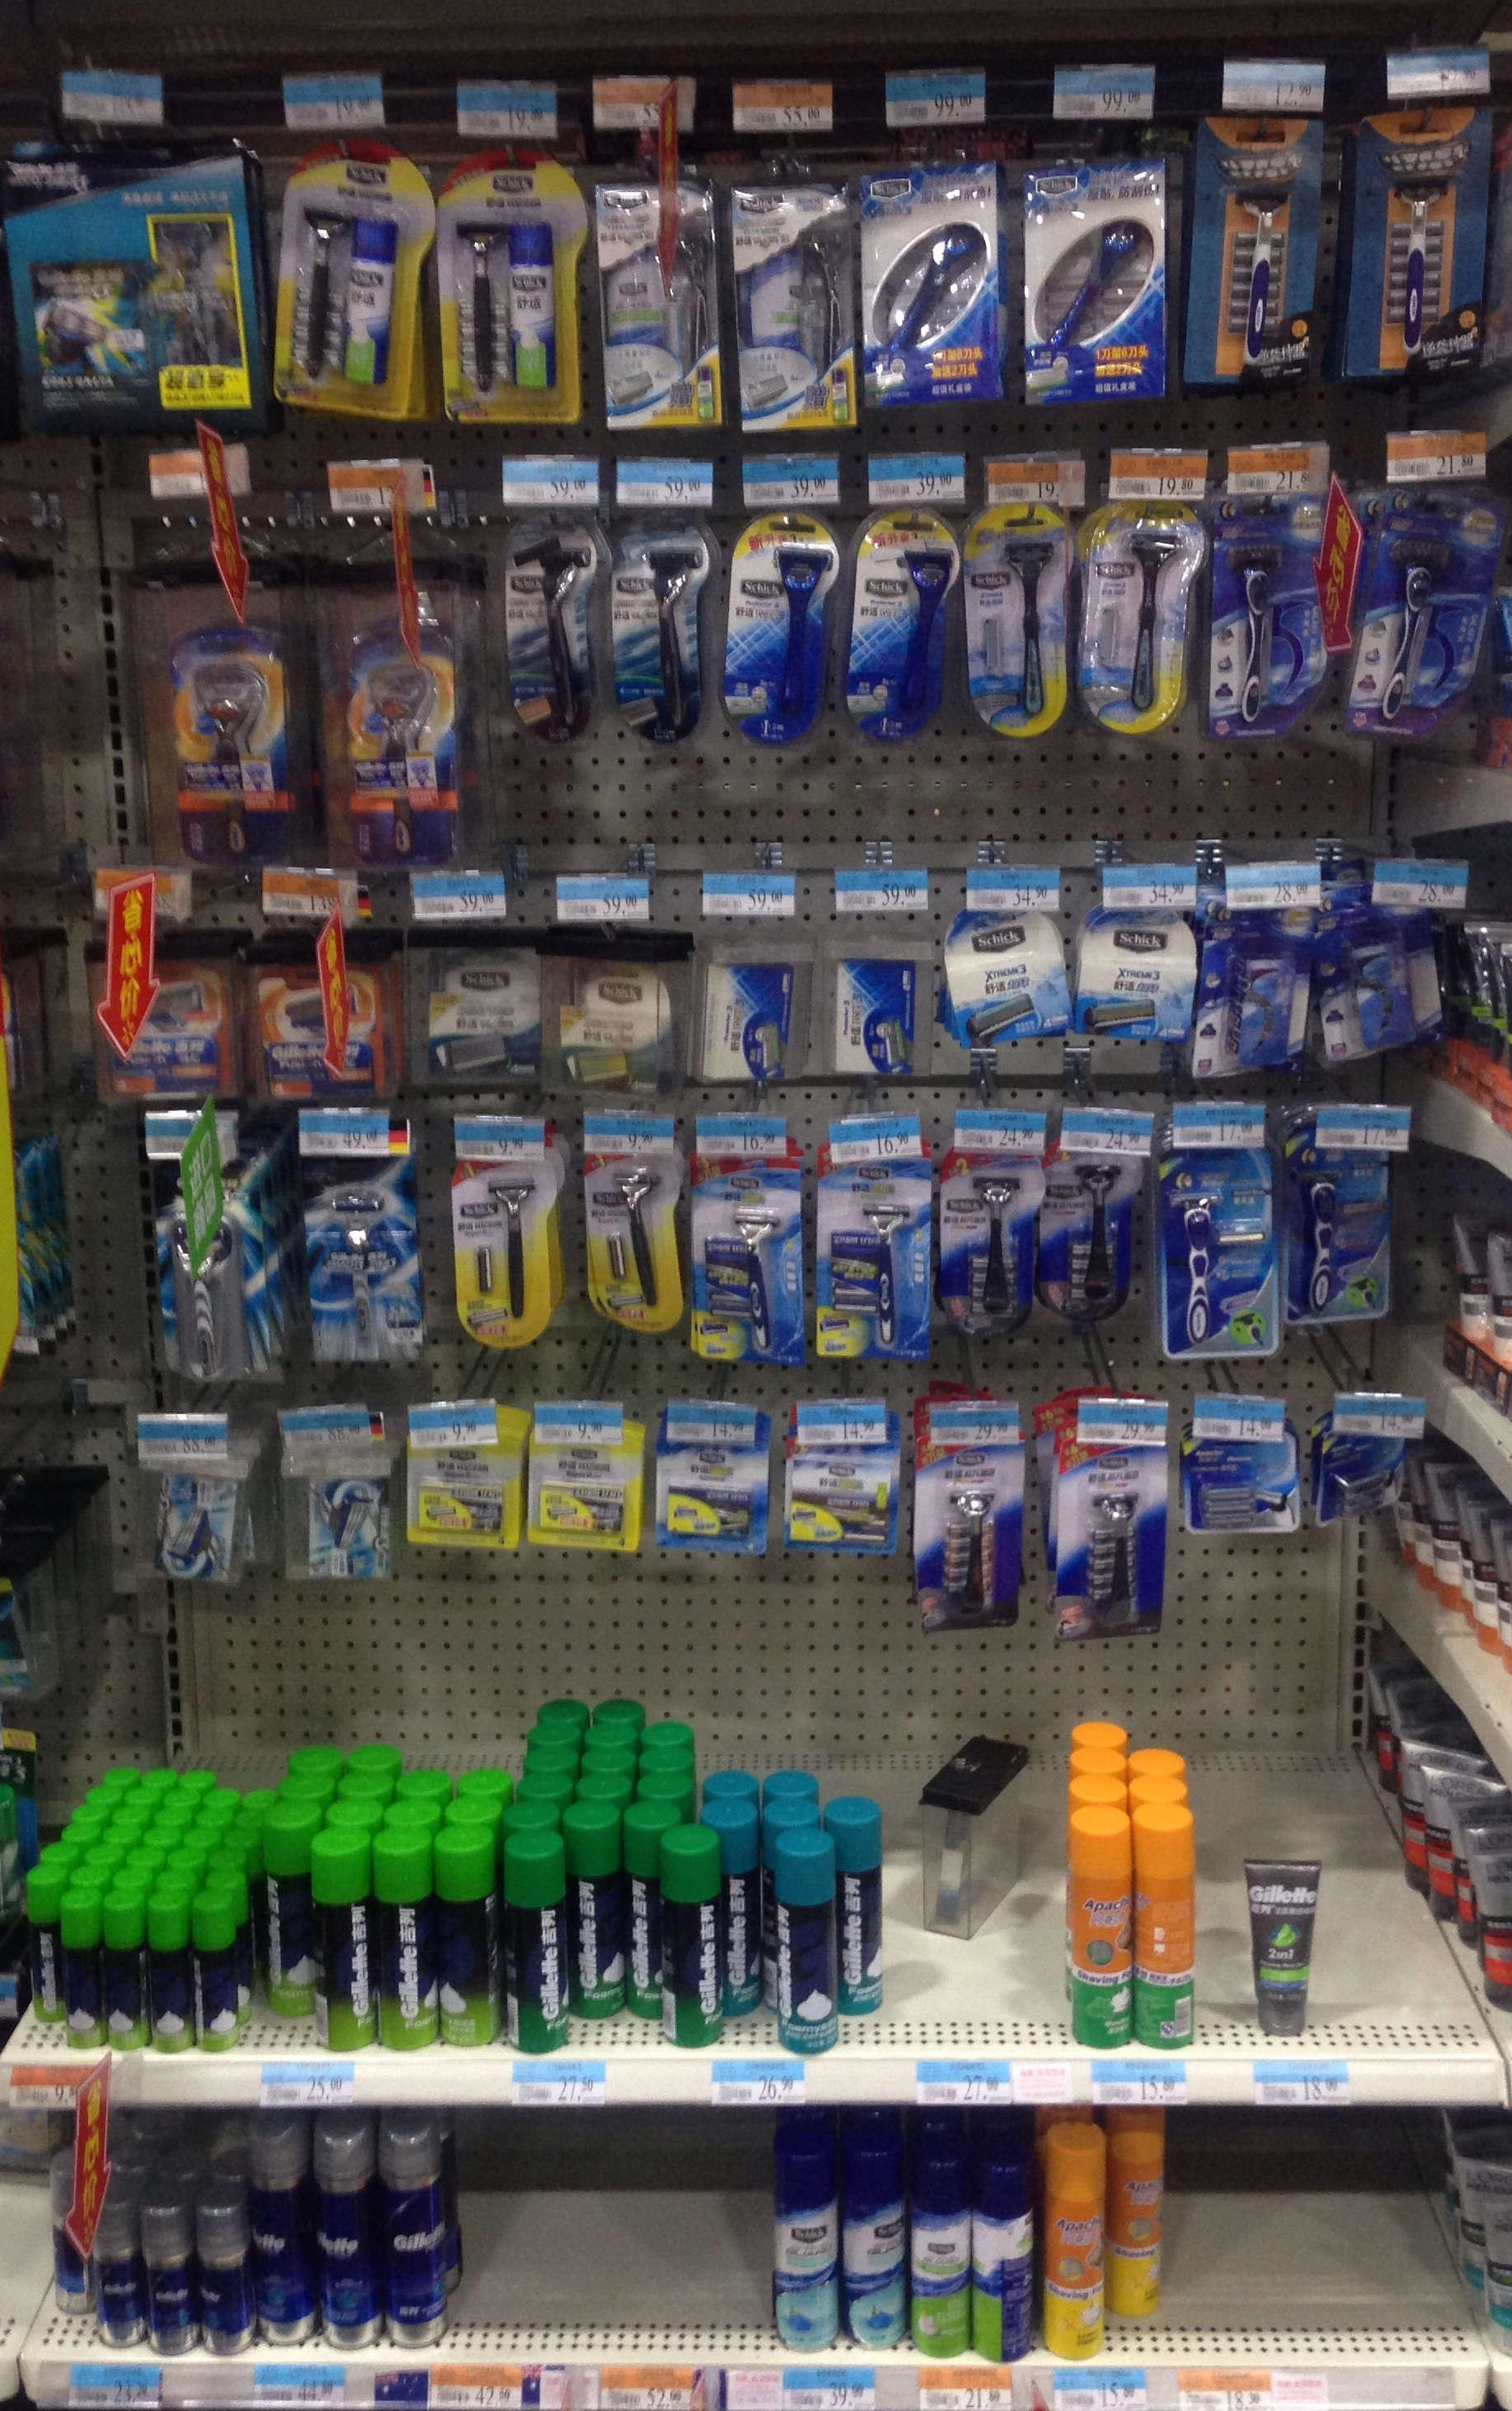empty: (477, 2134, 747, 2317), (1193, 2120, 1427, 2310)
misalignment: (1191, 1705, 1366, 2031), (918, 1744, 1029, 1937)
